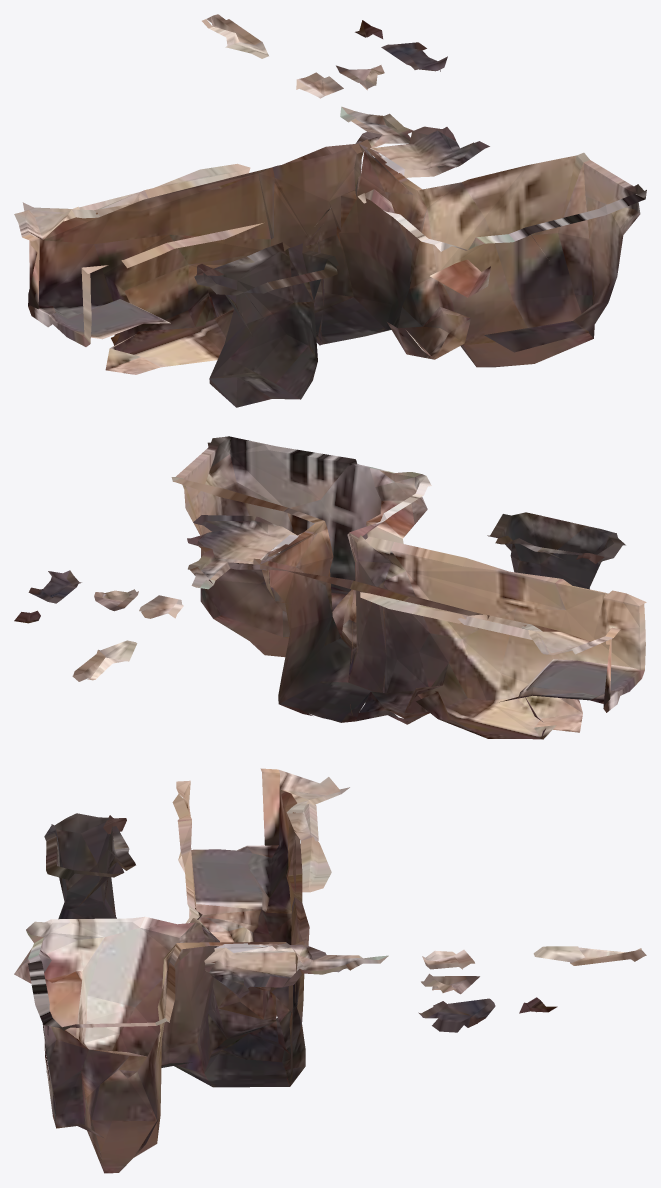
3 views of the same model, one above another, from view 1: azimuth 30°, elevation 25°; view 2: azimuth 150°, elevation 25°; view 3: azimuth 270°, elevation 25° (orthographic). The views are drawn at different scales.
Visible parts, largest first — view 1: Mesh_0; view 2: Mesh_0; view 3: Mesh_0.
Boxes of the visible parts, left/top/right/bottom form: Mesh_0: left=14, top=14, right=646, bottom=407; Mesh_0: left=14, top=436, right=646, bottom=739; Mesh_0: left=14, top=768, right=646, bottom=1173.
Bounding box in the file's own units: 30.11 × 9.43 × 31.19.
1 material, 1 textured.
